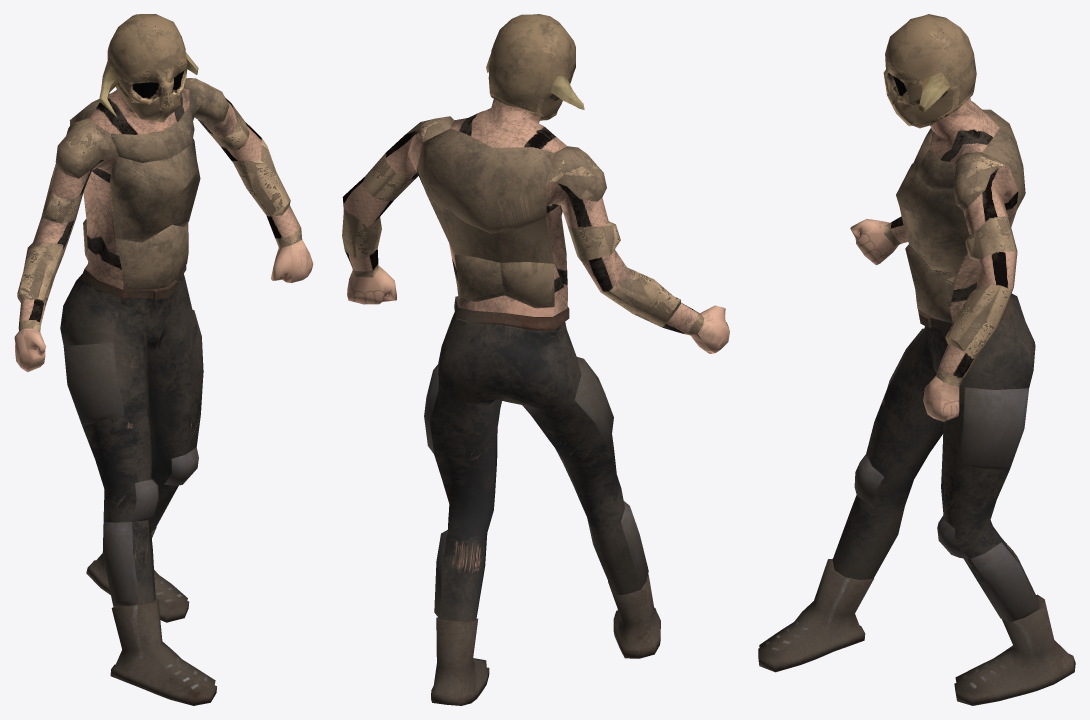
The model's file is Anim_interruptor_npc1.0021.obj.
3 renders of one model, left to right at view 1: azimuth 30°, elevation 25°; view 2: azimuth 150°, elevation 25°; view 3: azimuth 270°, elevation 25°, orthographic. The views are drawn at different scales.
Visible parts, largest first — view 1: NPC2; view 2: NPC2; view 3: NPC2.
Part boxes in pixels (x1,y1,x2,y2): NPC2: (14,14,313,705); NPC2: (342,14,729,705); NPC2: (758,14,1075,705).
Size of the model in its own units: 5.1 by 9.35 by 4.1.
